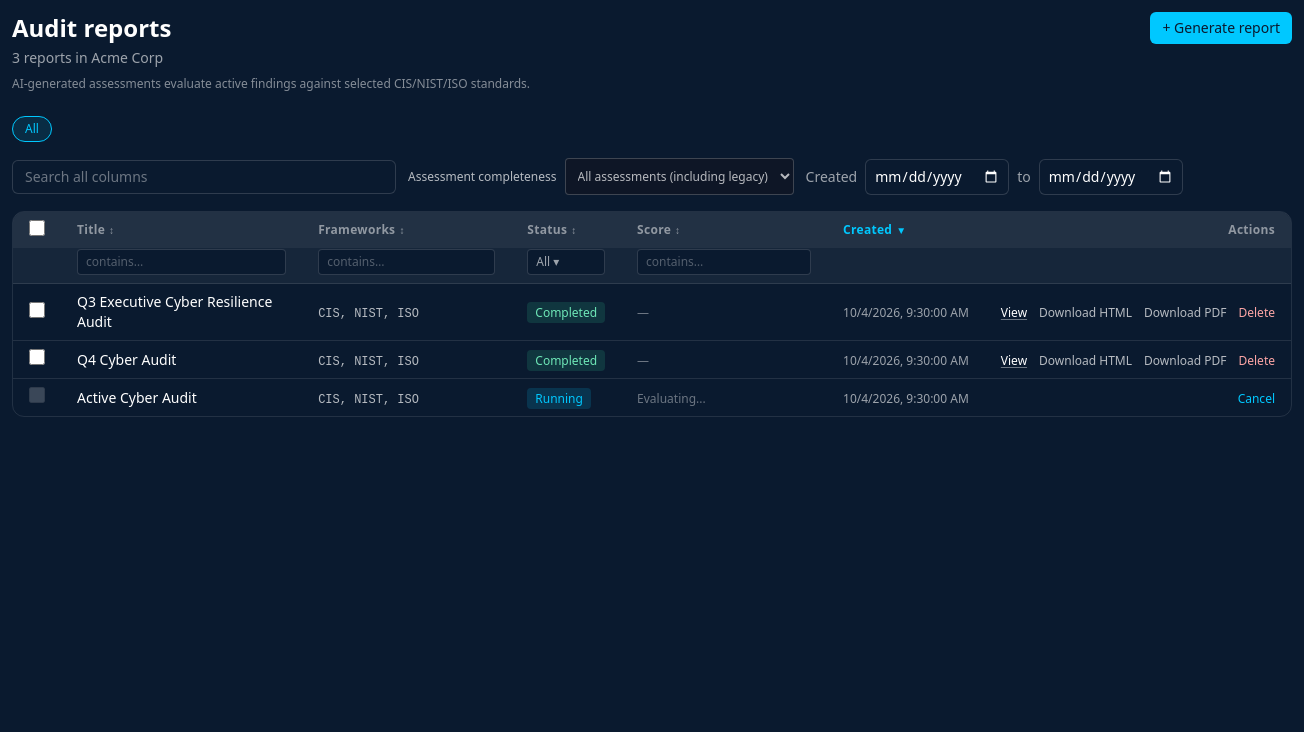
Test case: ReportsPage › lets admins select and bulk delete finished reports but not active reports
expect the button "Active Cyber Audit" is shown: met, box [77,388,197,408]
expect the checkbox named "Select Active Cyber Audit" is disabled: met, box [29,387,45,403]
Click the checkbox named "Select Q3 Executive Cyber Resilience Audit": (37, 310) [29,302,45,318]
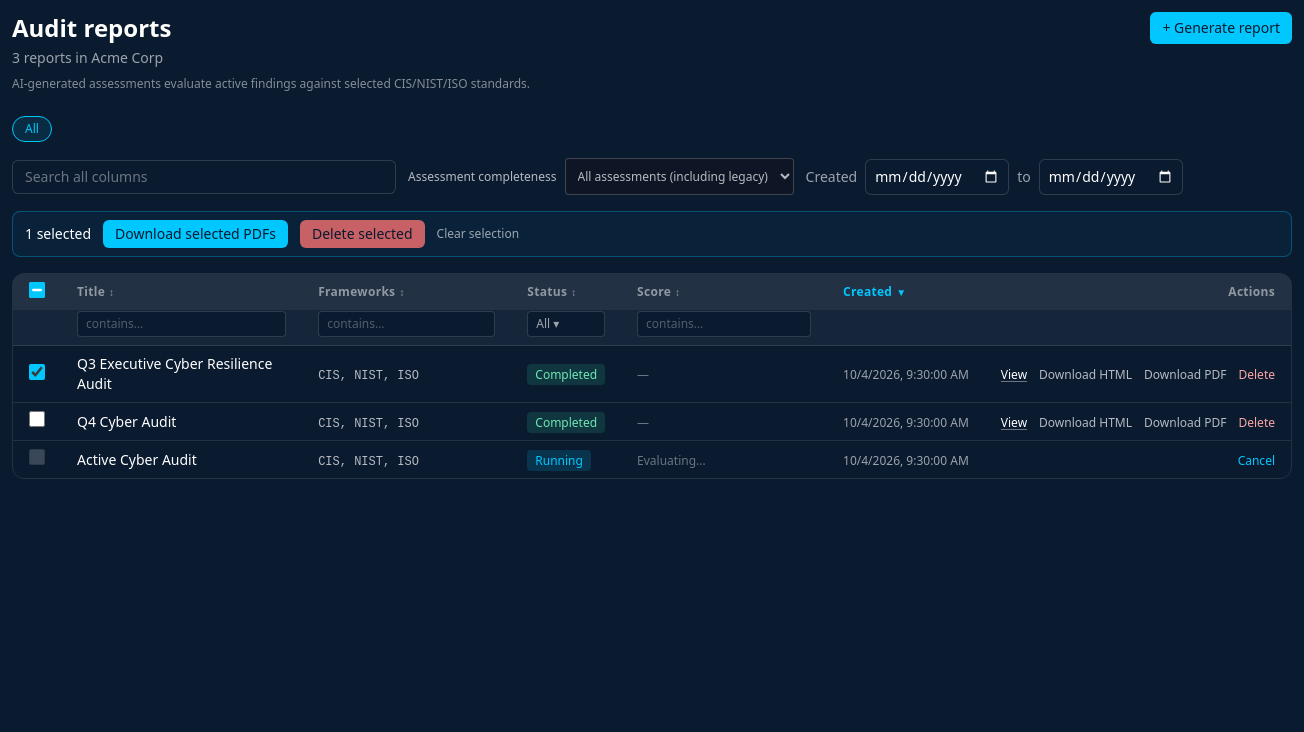
Click the checkbox named "Select Q4 Cyber Audit": (37, 419) [29,411,45,427]
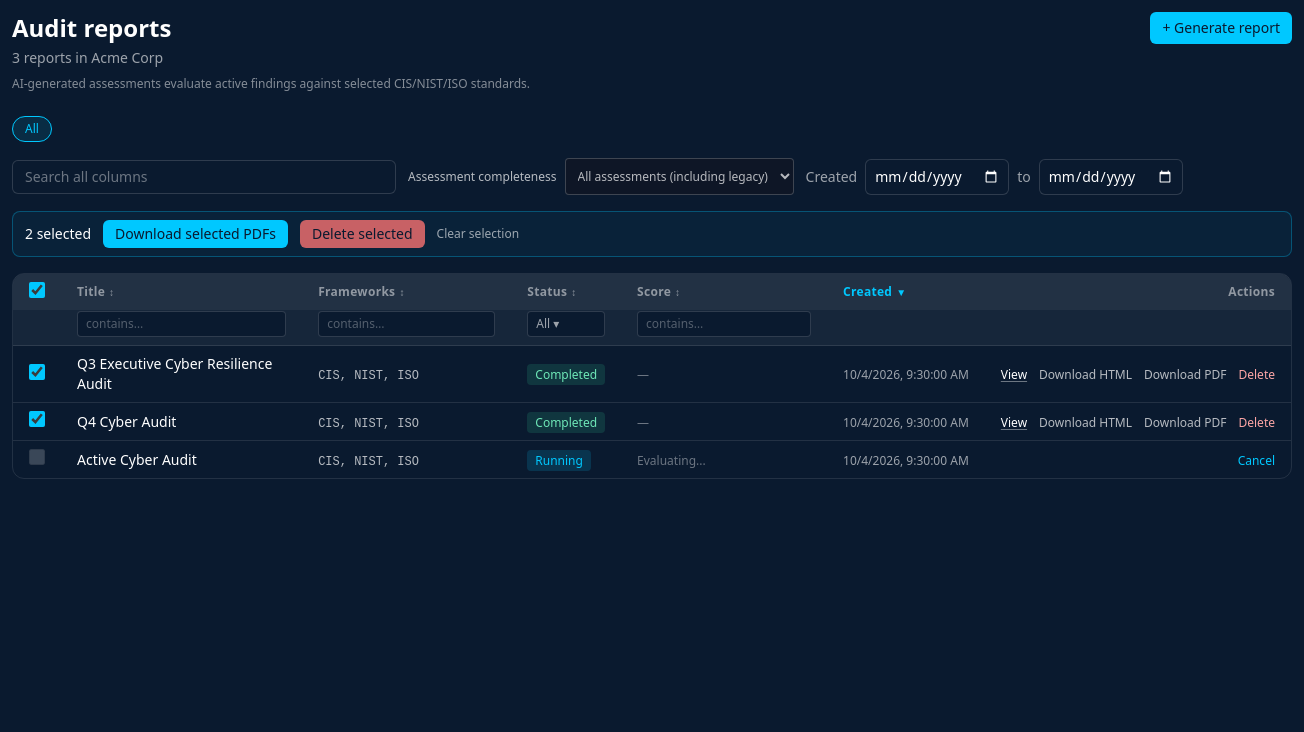
Click the button "Delete selected": (362, 234) [300,220,425,248]
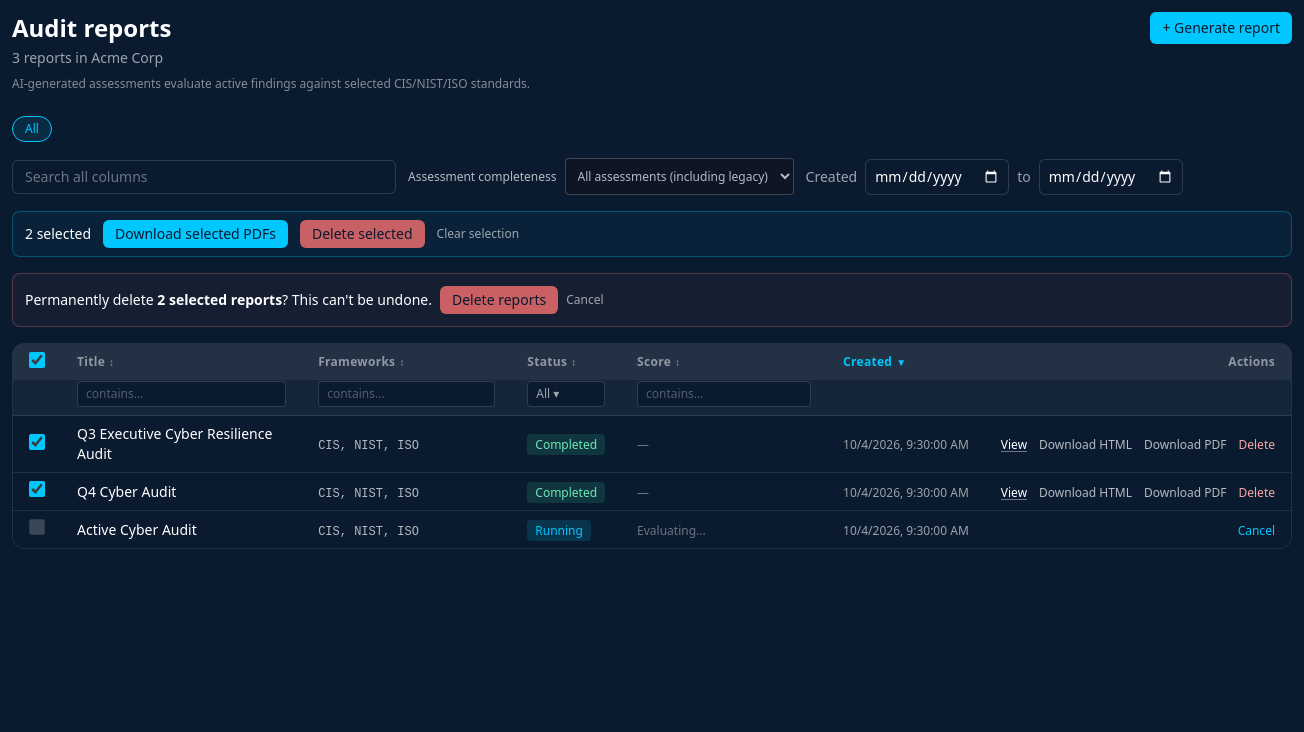
expect the element named "Delete selected reports" is shown: met, box [12,273,1292,327]
expect the text "2 selected reports" is shown: met, box [157,290,282,309]
Click the button "Delete reports": (499, 300) [440,286,558,314]
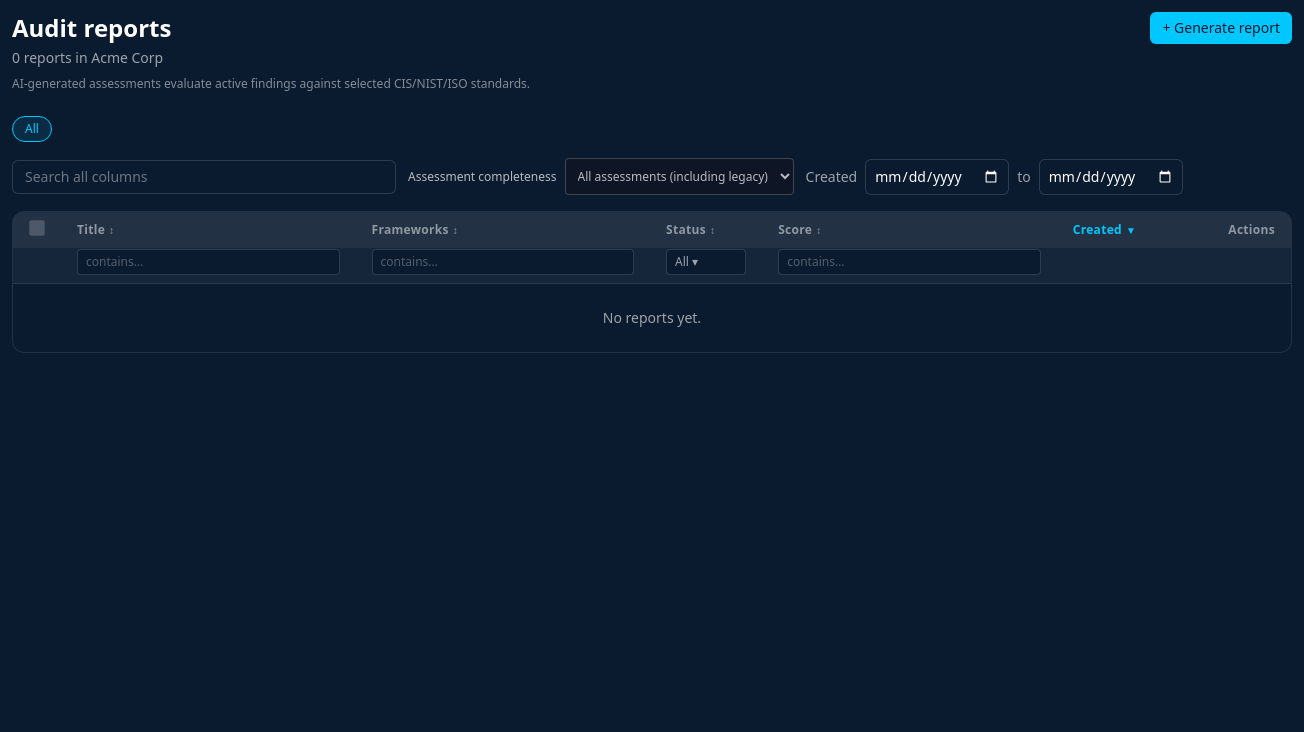
expect the text "No reports yet." is shown: met, box [13,284,1291,352]
